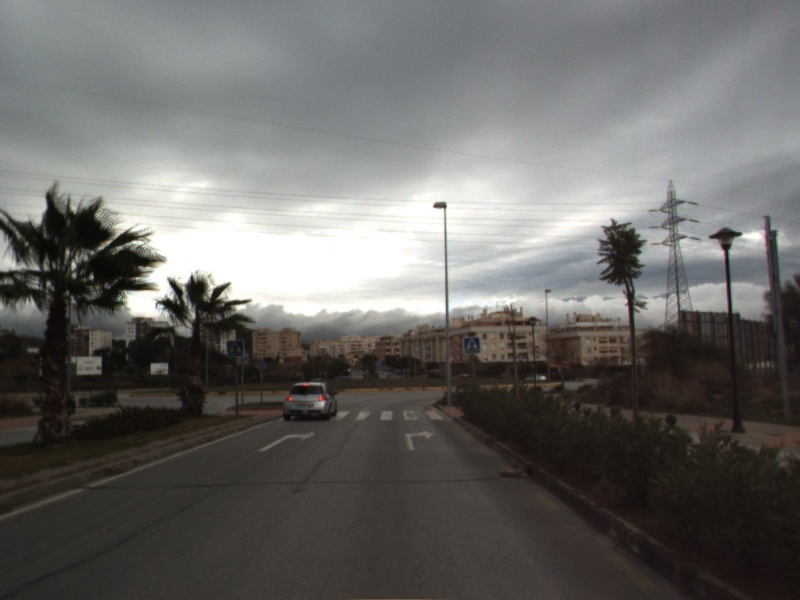RIGHT: (256, 429, 317, 454), (403, 428, 435, 452)
